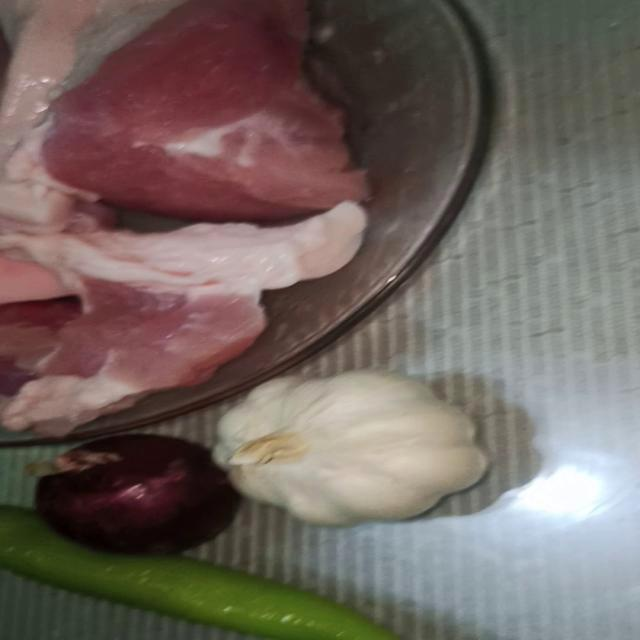garlic: (231, 360, 498, 535)
onion: (36, 430, 240, 572)
pork: (0, 0, 379, 223), (0, 217, 302, 430)
